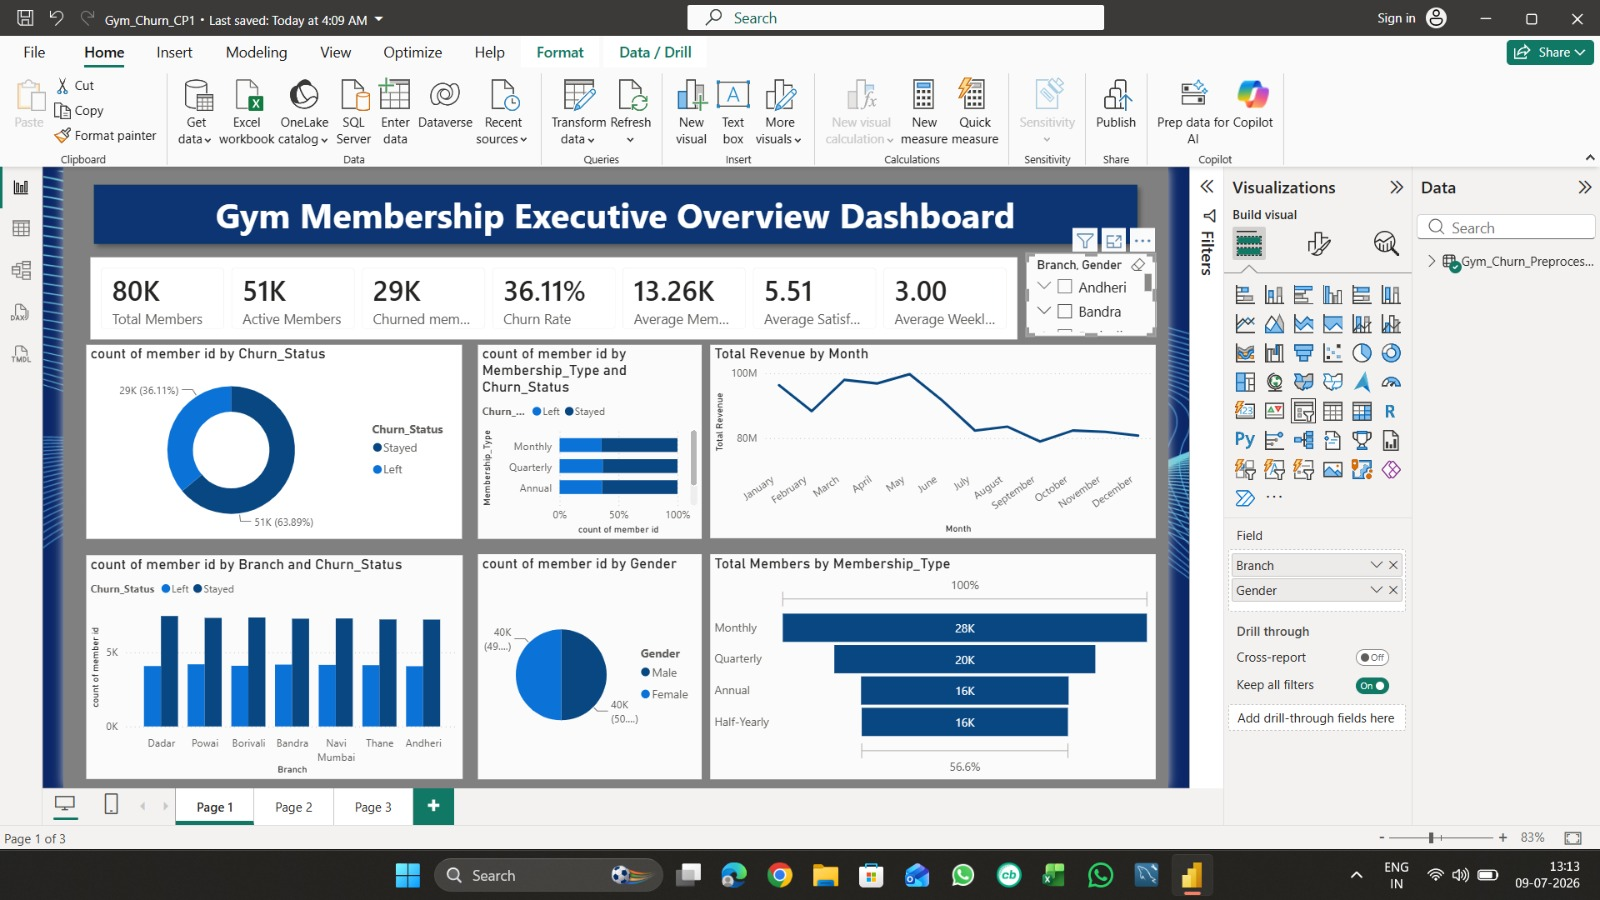

What the dashboard file says about the page in this screenshot:
{"tool":"powerbi","page":{"name":"Page 1","canvas":[1280,720],"ordinal":0},"visuals":[{"type":"shape","box":[25.7,11.4,1228.6,88.6],"z":0},{"type":"cardVisual","fields":{"Data":["Gym_Churn_Preprocessed2.Total Members","Gym_Churn_Preprocessed2.Active Members","Gym_Churn_Preprocessed2.Churned members","Gym_Churn_Preprocessed2.Churn Rate","Gym_Churn_Preprocessed2.Average Membership Fee","Gym_Churn_Preprocessed2.Average Satisfaction","Gym_Churn_Preprocessed2.Average Weekly Visit"]},"box":[26.1,100.2,1088.2,105.7],"z":1000},{"type":"donutChart","fields":{"Category":["Gym_Churn_Preprocessed2.Churn_Status"],"Y":["Gym_Churn_Preprocessed2.count of member id"]},"box":[26.1,205.8,435,225],"z":8000},{"type":"clusteredColumnChart","fields":{"Category":["Gym_Churn_Preprocessed2.Branch"],"Y":["Gym_Churn_Preprocessed2.count of member id"],"Series":["Gym_Churn_Preprocessed2.Churn_Status"]},"box":[26.1,450.1,436.4,259.3],"z":9000},{"type":"hundredPercentStackedBarChart","fields":{"Category":["Gym_Churn_Preprocessed2.Membership_Type"],"Y":["Gym_Churn_Preprocessed2.count of member id"],"Series":["Gym_Churn_Preprocessed2.Churn_Status"]},"box":[480.3,205.8,259.3,225],"z":10000},{"type":"pieChart","fields":{"Category":["Gym_Churn_Preprocessed2.Gender"],"Y":["Gym_Churn_Preprocessed2.count of member id"]},"box":[480.3,448.7,259.3,260.7],"z":11000},{"type":"lineChart","fields":{"Category":["Gym_Churn_Preprocessed2.Join_Date.Variation.Date Hierarchy.Month"],"Y":["Gym_Churn_Preprocessed2.Total Revenue"]},"box":[749.2,205.8,516,223.7],"z":12000},{"type":"funnel","fields":{"Category":["Gym_Churn_Preprocessed2.Membership_Type"],"Y":["Gym_Churn_Preprocessed2.Total Members"]},"box":[749.2,448.7,516,260.7],"z":13000},{"type":"slicer","fields":{"Values":["Gym_Churn_Preprocessed2.Branch","Gym_Churn_Preprocessed2.Gender"]},"box":[1114.2,100.2,150.9,96.1],"z":14000}]}

Visuals, with their boxes on the page's 1280x720 design canvas (x1, y1, x2, y2). These are canvas units, not pixel positions in the 1600x900 screenshot, which may show the page scaled, cropped or inside an application window:
shape: bbox(26, 11, 1254, 100)
cardVisual - Gym_Churn_Preprocessed2.Total Members x Gym_Churn_Preprocessed2.Active Members: bbox(26, 100, 1114, 206)
donutChart - Gym_Churn_Preprocessed2.Churn_Status x Gym_Churn_Preprocessed2.count of member id: bbox(26, 206, 461, 431)
clusteredColumnChart - Gym_Churn_Preprocessed2.Branch x Gym_Churn_Preprocessed2.count of member id: bbox(26, 450, 462, 709)
hundredPercentStackedBarChart - Gym_Churn_Preprocessed2.Membership_Type x Gym_Churn_Preprocessed2.count of member id: bbox(480, 206, 740, 431)
pieChart - Gym_Churn_Preprocessed2.Gender x Gym_Churn_Preprocessed2.count of member id: bbox(480, 449, 740, 709)
lineChart - Gym_Churn_Preprocessed2.Join_Date.Variation.Date Hierarchy.Month x Gym_Churn_Preprocessed2.Total Revenue: bbox(749, 206, 1265, 430)
funnel - Gym_Churn_Preprocessed2.Membership_Type x Gym_Churn_Preprocessed2.Total Members: bbox(749, 449, 1265, 709)
slicer - Gym_Churn_Preprocessed2.Branch x Gym_Churn_Preprocessed2.Gender: bbox(1114, 100, 1265, 196)
